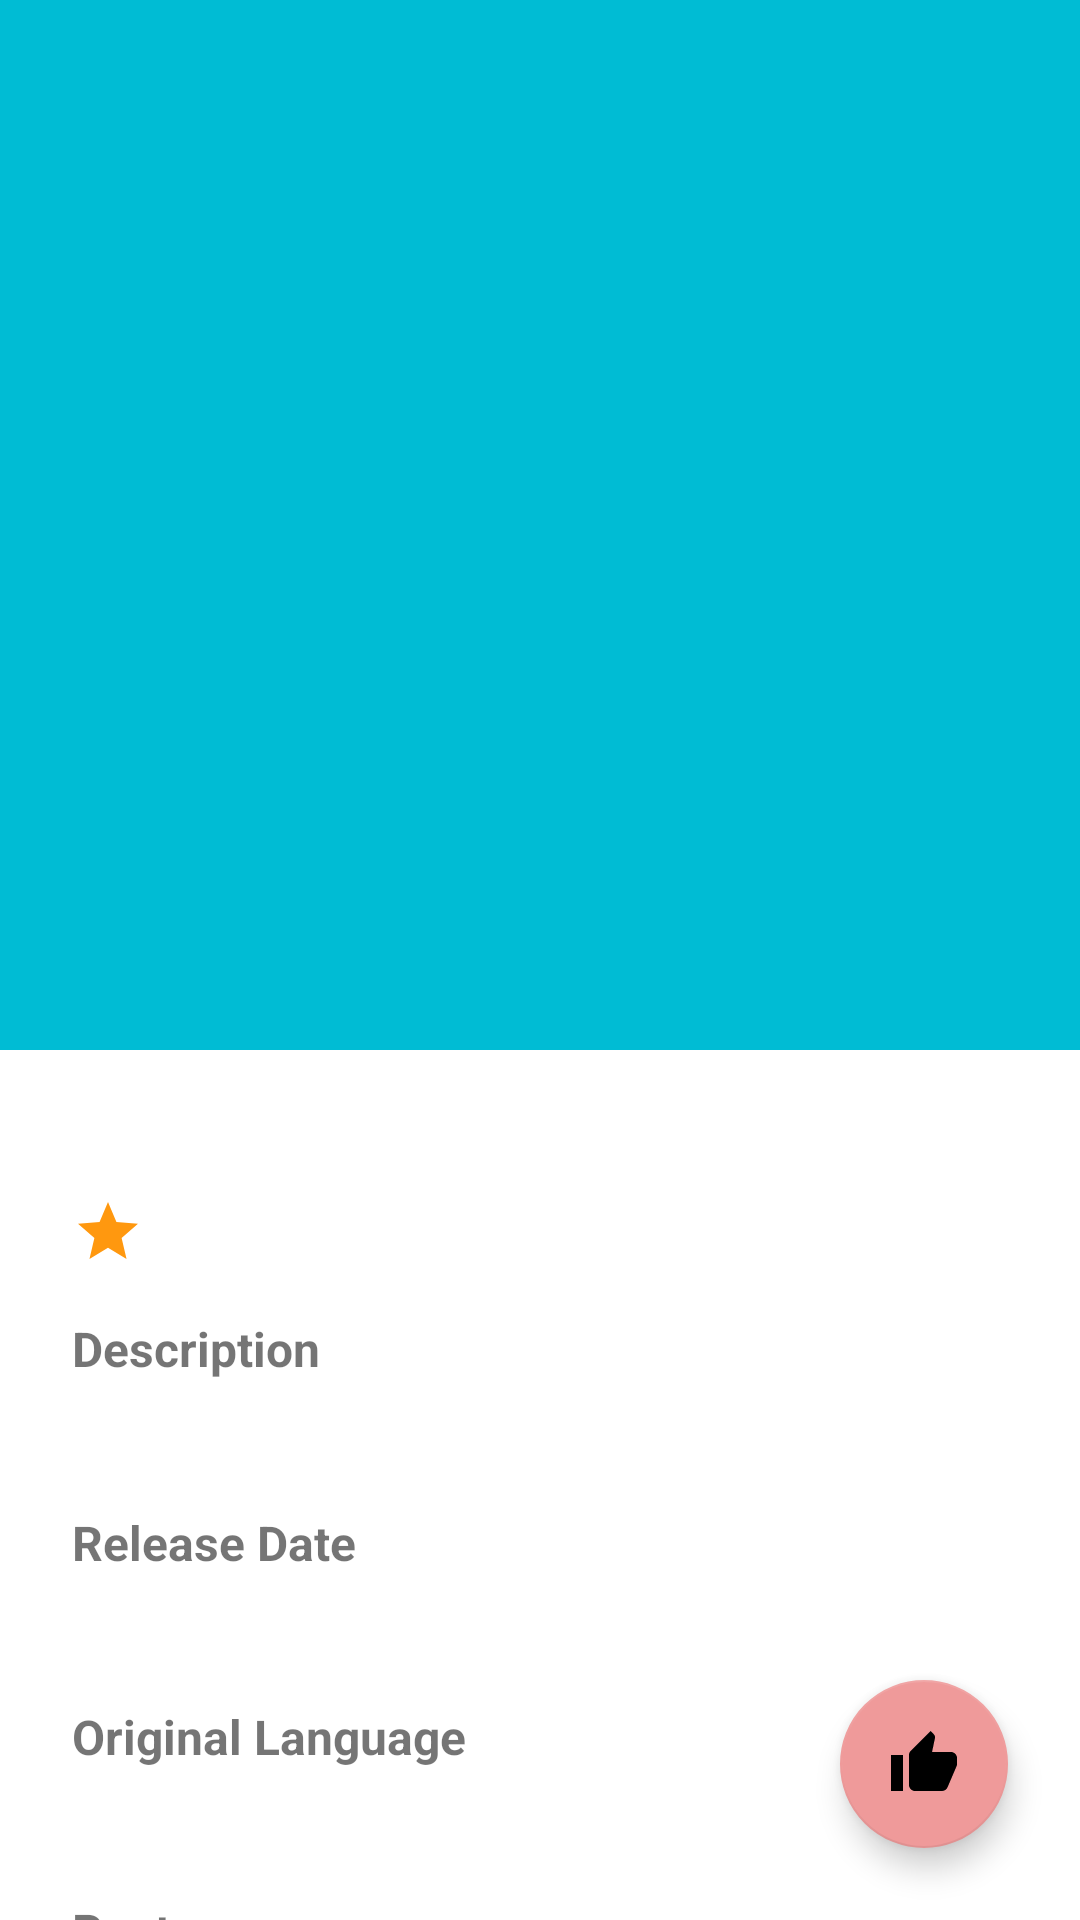

Icon click points for this 1080*1920 phone screenshot, format (x=x, y=y):
star: (x=108, y=1230)
thumb up: (x=924, y=1764)
